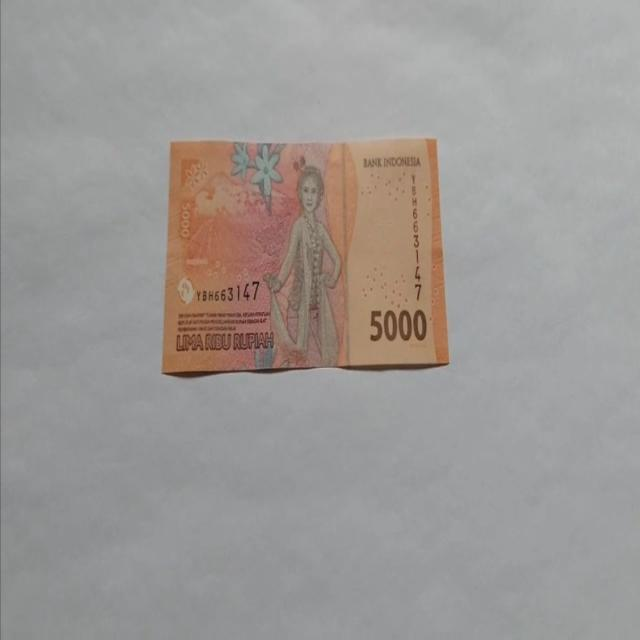lima ribu rupiah: (160, 136, 450, 375), (262, 164, 343, 368)
